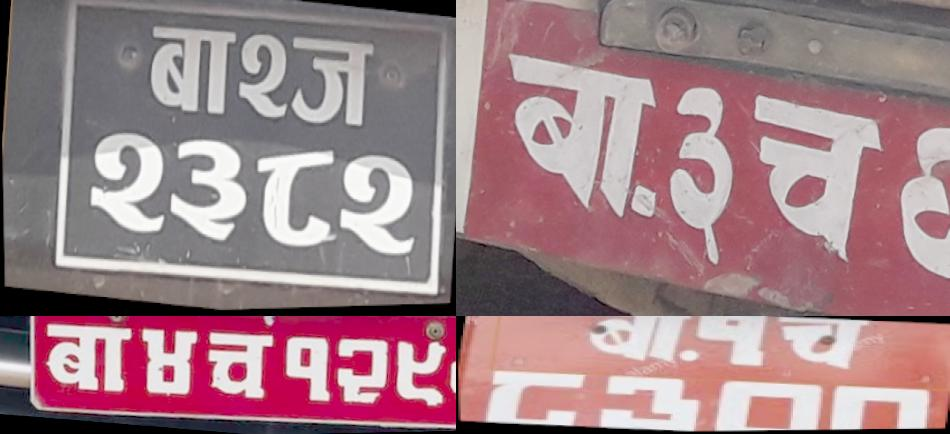0: (144, 21, 238, 121), (703, 374, 832, 432), (818, 379, 940, 431)
1: (335, 151, 421, 262), (84, 126, 168, 238), (234, 29, 295, 124), (682, 316, 776, 372), (279, 334, 338, 405)
2: (285, 31, 377, 134), (331, 336, 392, 410)
3: (656, 73, 752, 279), (590, 369, 708, 433)
4: (136, 326, 201, 398)
6: (881, 108, 950, 316)
8: (474, 364, 593, 428)
9: (388, 336, 451, 413)
ba: (484, 38, 673, 235), (166, 133, 250, 247), (40, 319, 133, 398), (574, 316, 698, 370)
cha: (733, 79, 895, 290), (762, 316, 877, 378), (199, 330, 278, 403)
pa: (250, 141, 338, 254)
